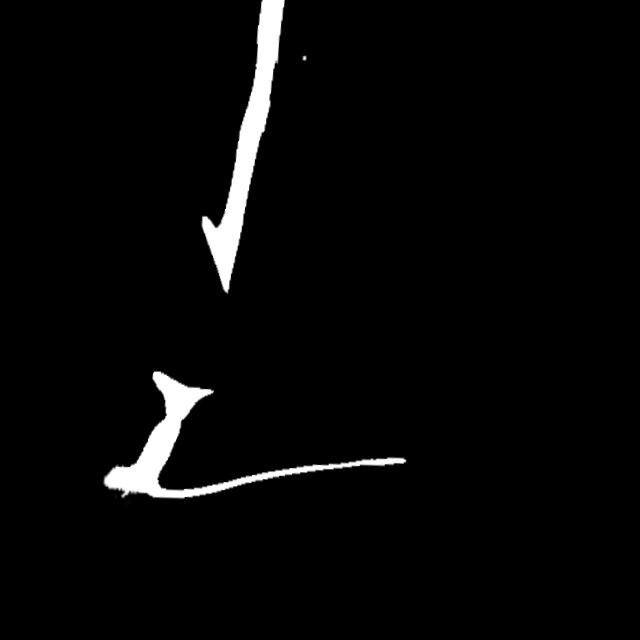sup_pli: (111, 483, 129, 509)
